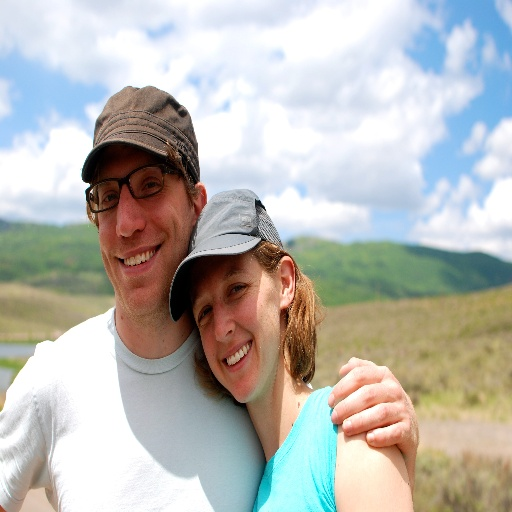hand: (319, 364, 423, 468)
